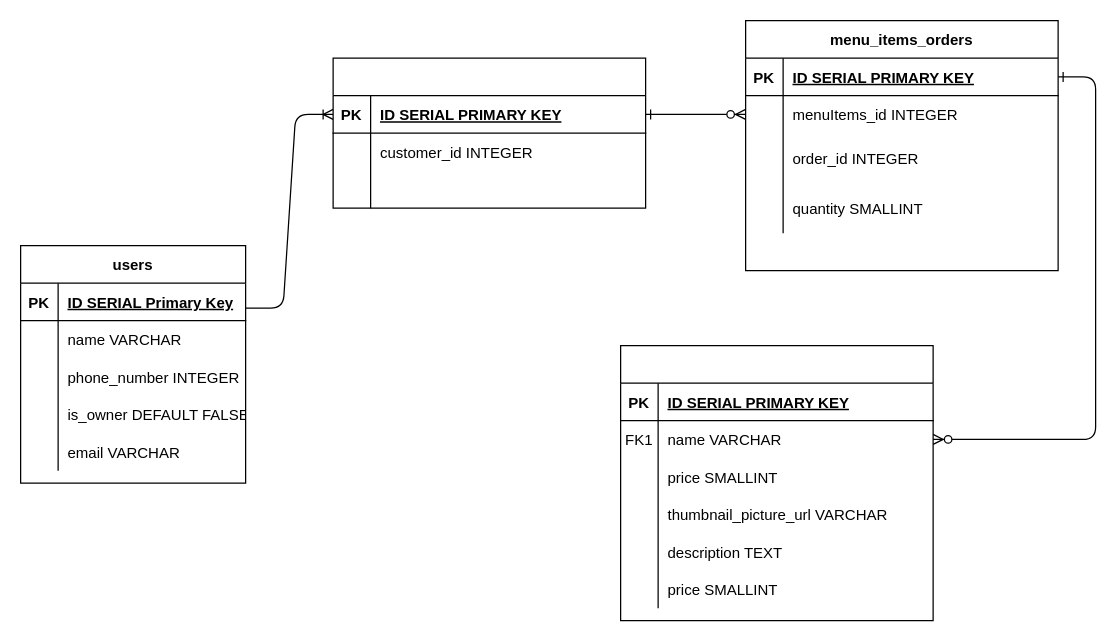
This 1116x641 diagram has some shape labels left out. The box of each missing label's shape, as (x1, y1, x2, y2) in pixels:
menu_items: (619, 344, 933, 621)
orders: (332, 57, 646, 208)
